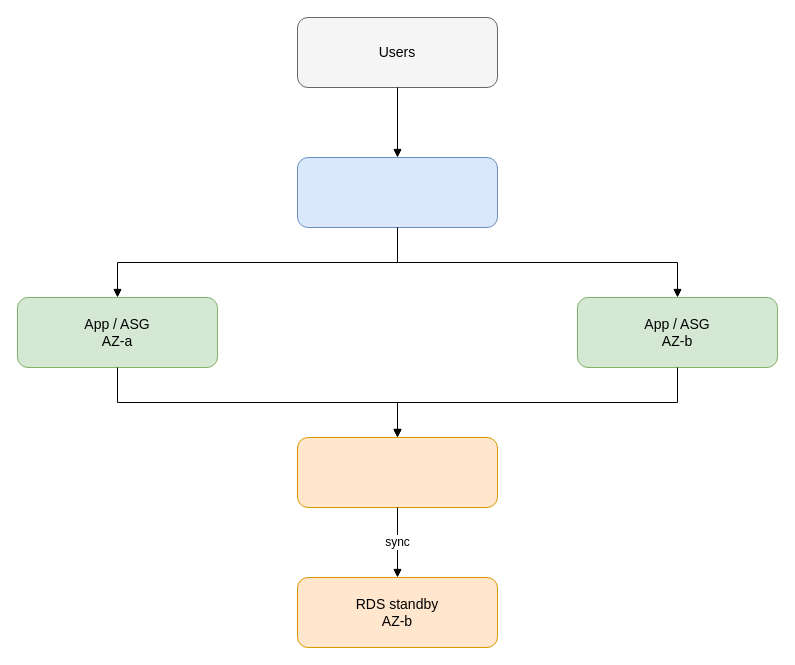
The diagram is 795 pixels wide and 665 high, and some of its shapes have lost their labels. Here are the shapes that lost their labels. From the top down, the centre of each, then its label:
[397,192]: Application Load Balancer (multi-AZ)
[397,472]: RDS primary AZ-a
